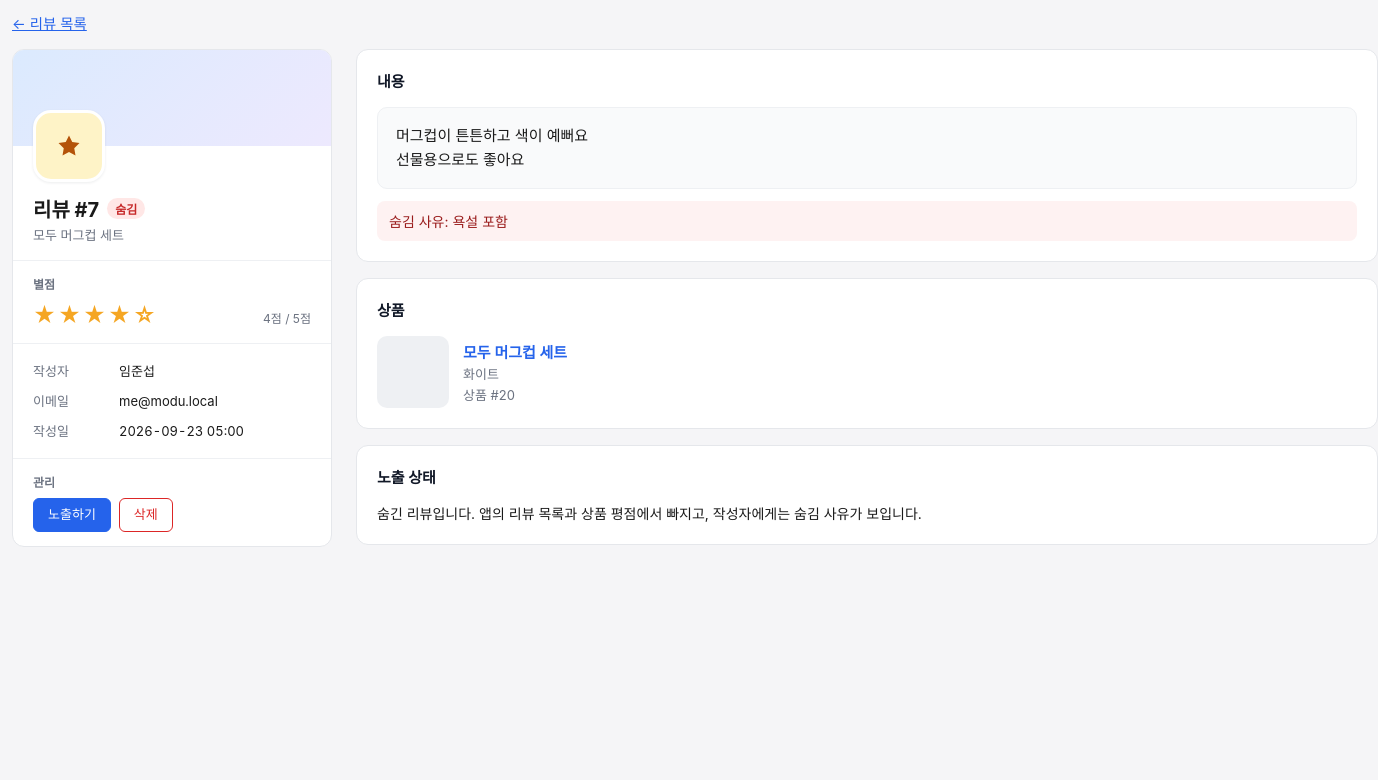
Test case: ReviewDetailPage › unhides a hidden review
The width and height of the screenshot is (1378, 780).
Click the button "노출하기".
click(72, 515)  # box [33,498,111,532]
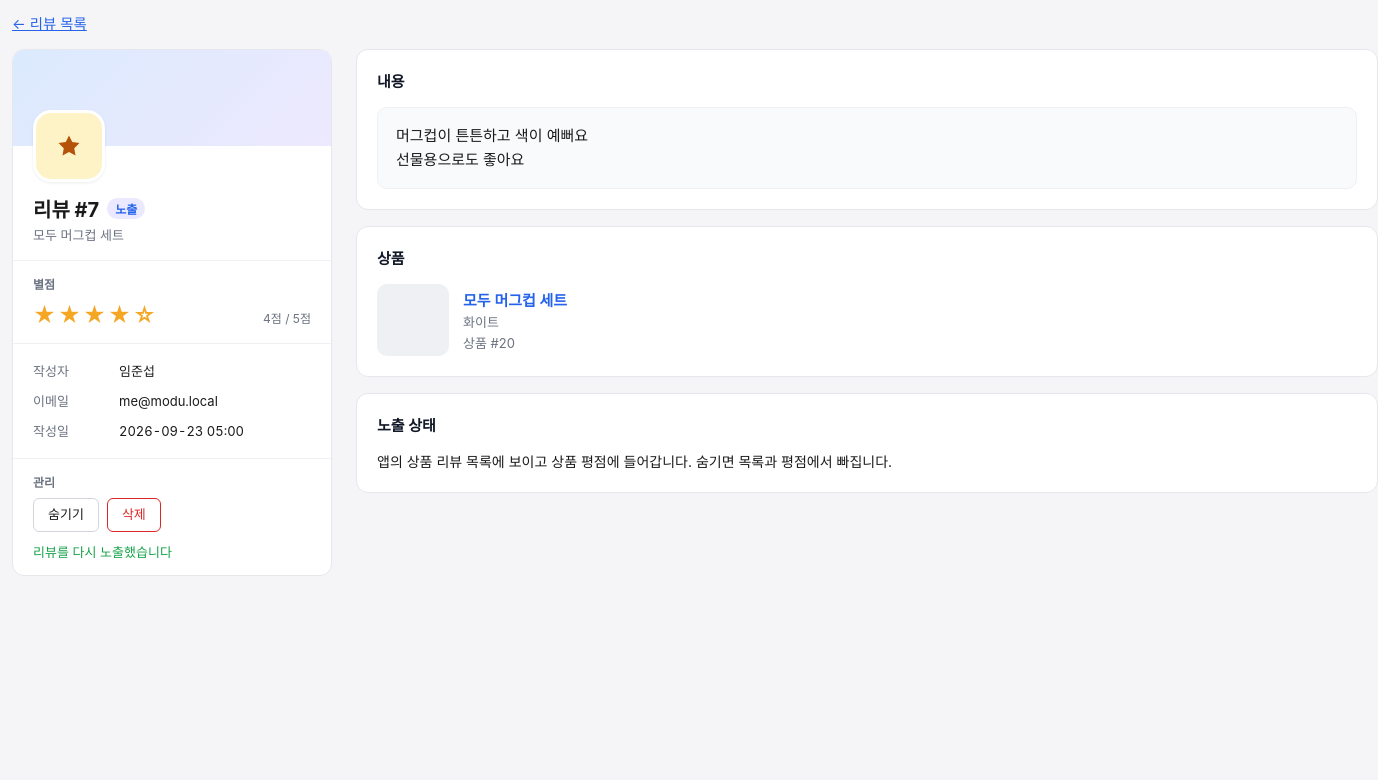
expect the text "리뷰를 다시 노출했습니다" is shown: met, box [33,544,172,560]
expect the button "숨기기" is shown: met, box [33,498,99,532]
